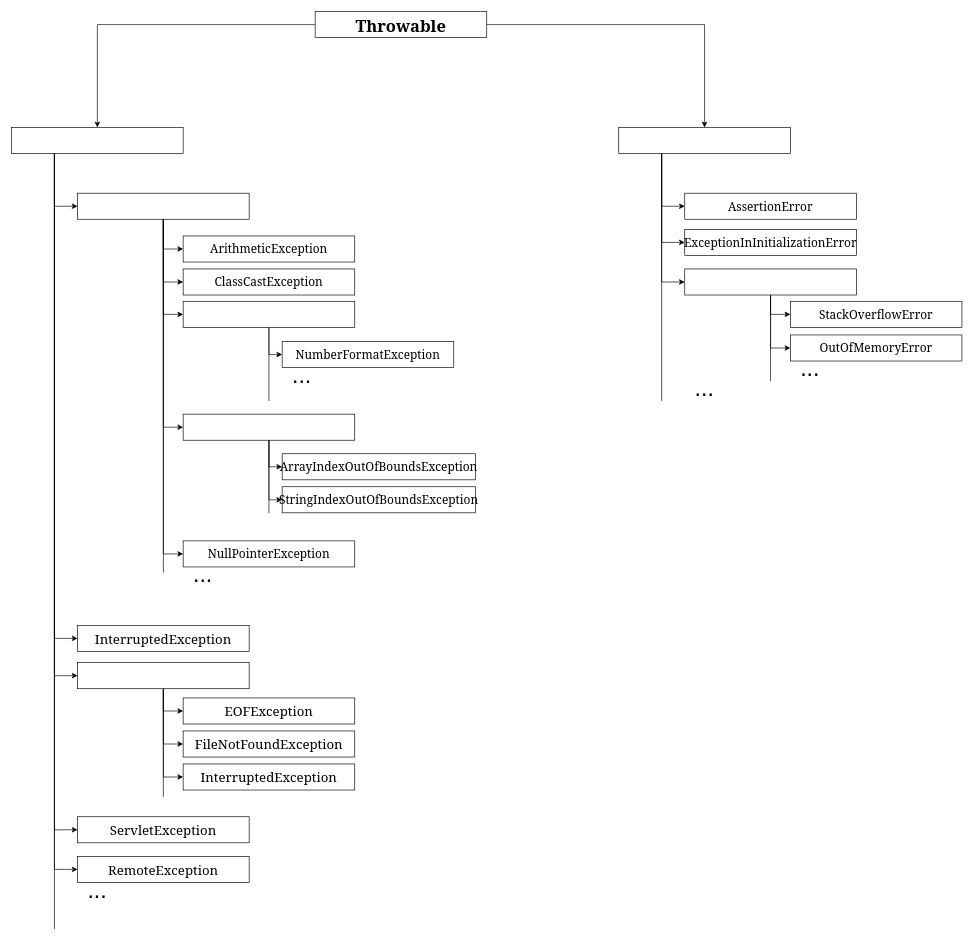
This 974x941 diagram has some shape labels left out. The centre of each missing label's shape, as x and y in pixels:
"Error" belongs at point 704,140.
"Exception" belongs at point 97,140.
"IllegalArgumentException" belongs at point 268,314.
"IndexOutOfBoundsException" belongs at point 268,426.
"IOException" belongs at point 163,675.
"RuntimeException" belongs at point 163,206.
"VMError" belongs at point 770,281.
